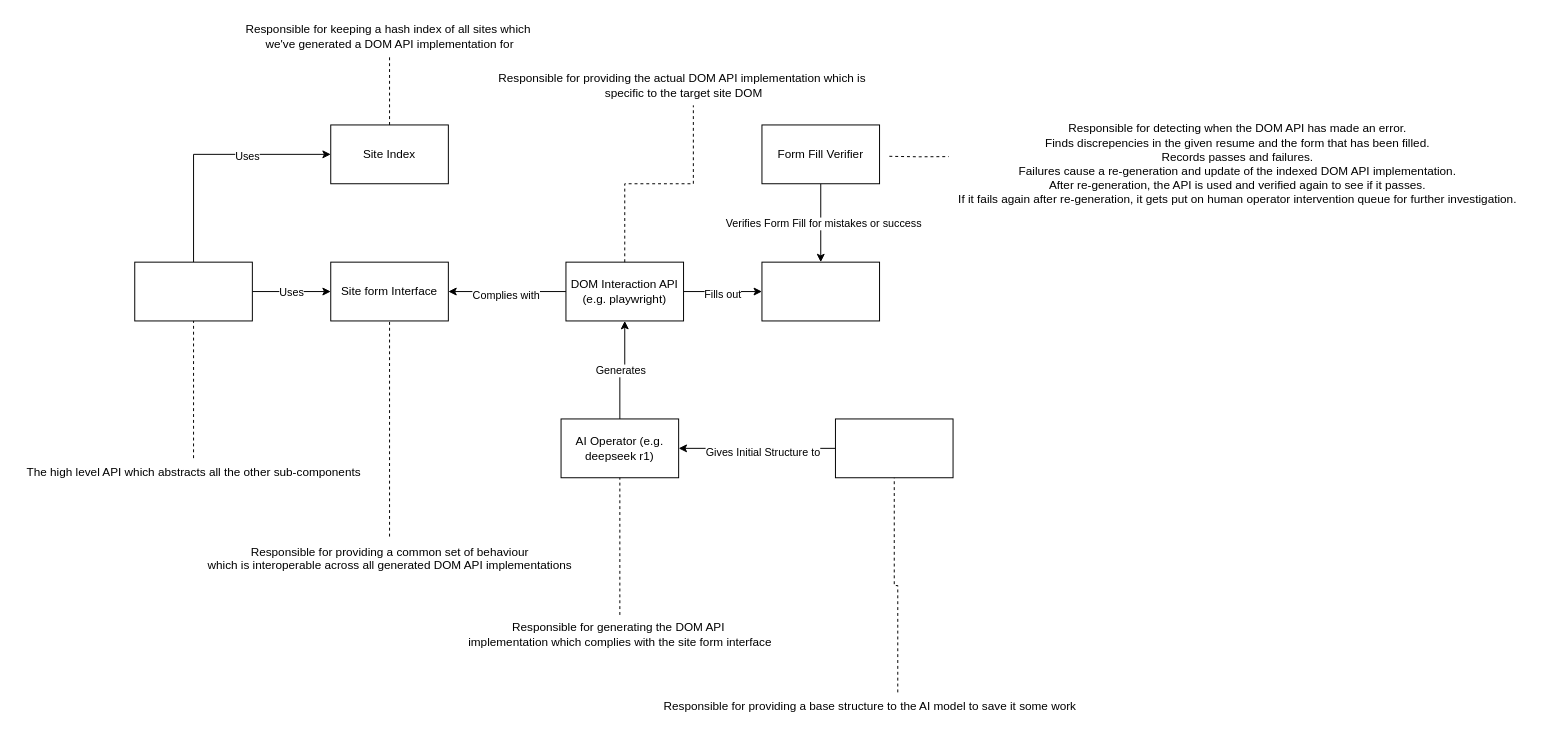
Image size: 1543x749. Some labels were removed from this diagram. Each missing label, with the centre of its shape:
"Legacy Autofill Engine pre-processor" belongs at point (893, 448).
"Logical API" belongs at point (193, 291).
"Site DOM (e.g. TD job site application form)" belongs at point (820, 291).
